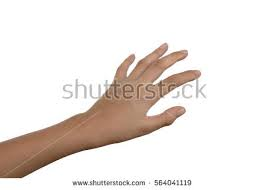hand: (90, 42, 207, 145)
